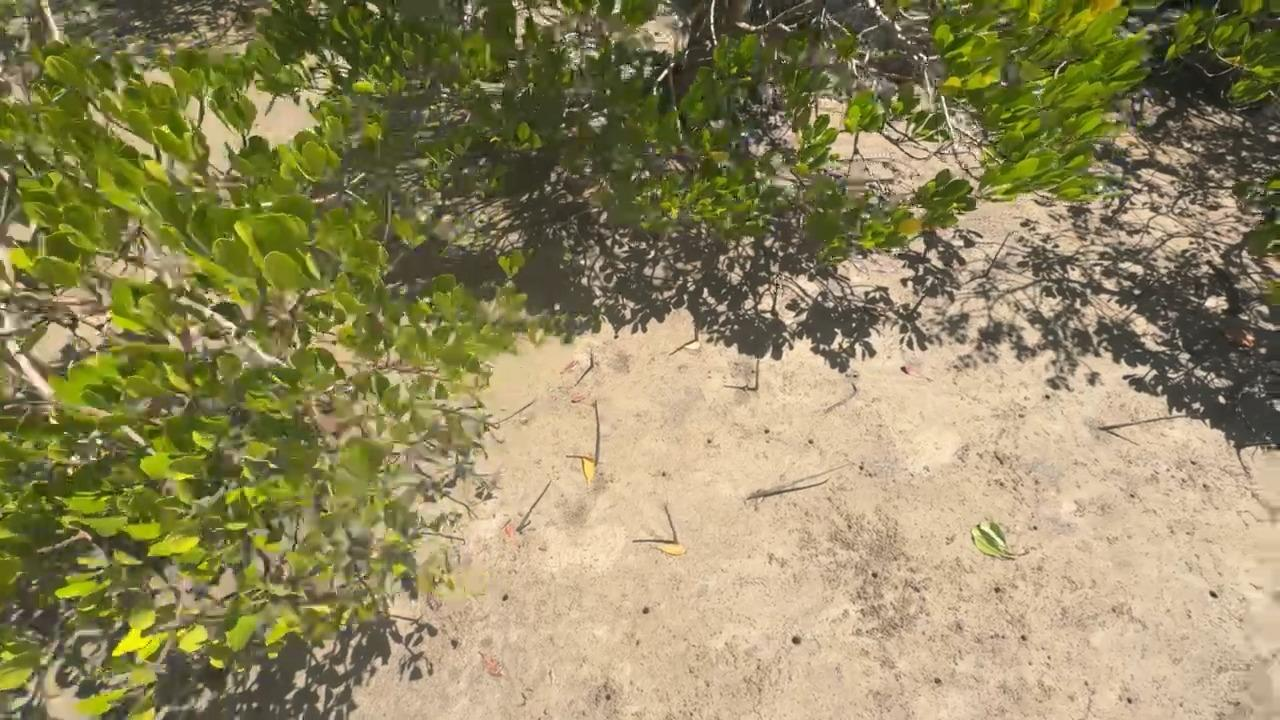Tree: (517, 480, 551, 531), (747, 480, 829, 499), (1099, 415, 1189, 429), (985, 232, 1011, 274), (593, 399, 601, 464), (665, 505, 677, 542), (756, 359, 760, 390), (589, 349, 594, 366)
